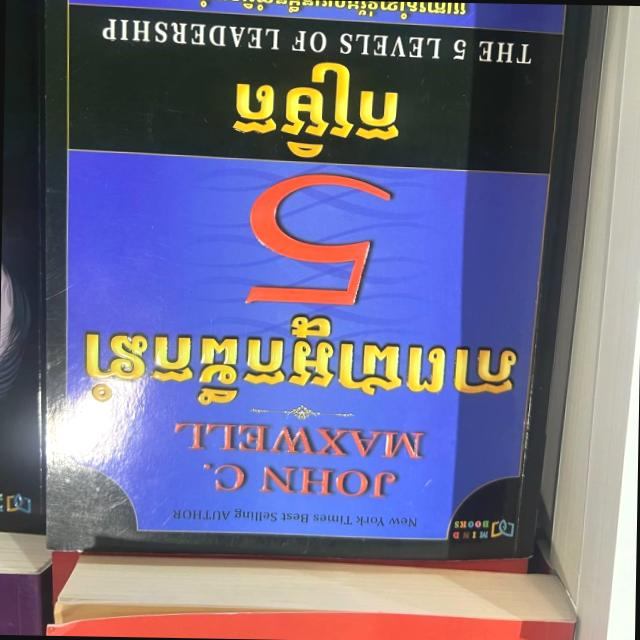Yolov11kh: (79, 307, 520, 415), (220, 54, 413, 162)
